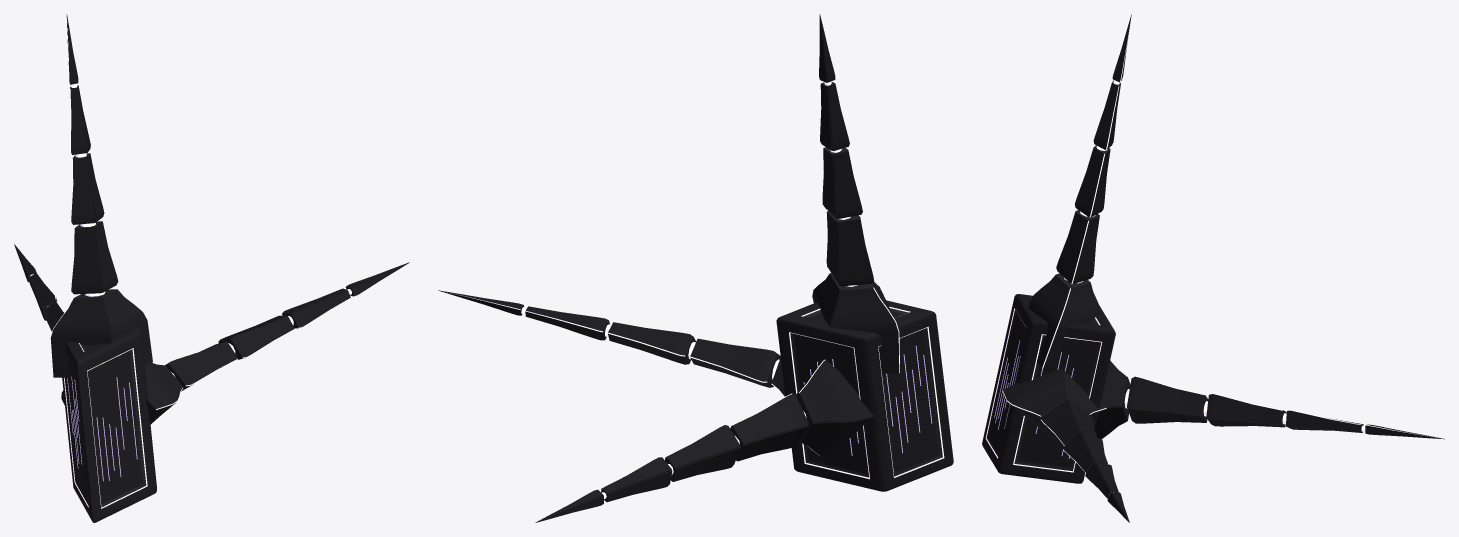
Rendered from anchor.glb.
The picture shows the model from 3 angles, left to right: view 1: azimuth 30°, elevation 25°; view 2: azimuth 150°, elevation 25°; view 3: azimuth 270°, elevation 25°; orthographic projection. The views are drawn at different scales.
Visible parts, largest first — view 1: core, spire_3, spire_1, spire_2; view 2: core, spire_2, spire_3, spire_1; view 3: core, spire_3, spire_2, spire_1.
Boxes of the visible parts, <box> form: core: <box>62,326,156,522</box>; spire_3: <box>50,14,152,377</box>; spire_1: <box>144,262,409,424</box>; spire_2: <box>14,244,64,405</box>; core: <box>776,300,953,491</box>; spire_2: <box>535,359,873,522</box>; spire_3: <box>812,14,899,373</box>; spire_1: <box>438,290,797,396</box>; core: <box>982,294,1115,483</box>; spire_3: <box>1028,14,1131,368</box>; spire_2: <box>1095,360,1444,439</box>; spire_1: <box>1003,368,1129,522</box>.
Size of the model in its own units: 8.21 by 8.99 by 8.29.
